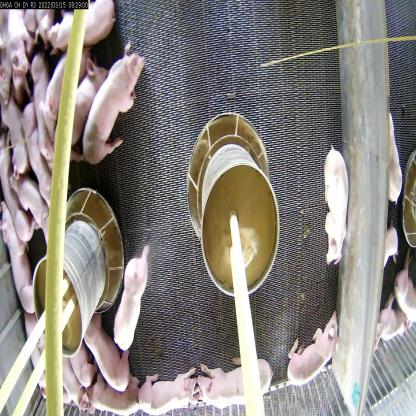Pig: (80, 47, 150, 169), (23, 40, 69, 171), (112, 241, 160, 358), (0, 192, 41, 318), (275, 310, 347, 379), (20, 102, 62, 215), (321, 150, 359, 274), (73, 306, 127, 386), (65, 59, 116, 143), (196, 363, 278, 415), (9, 160, 56, 242), (46, 1, 122, 50), (79, 359, 142, 415), (131, 375, 206, 415)
